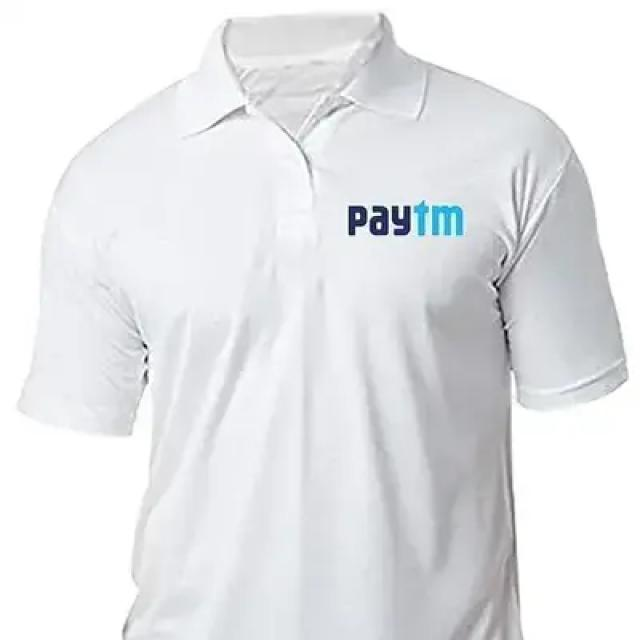fully_visible: (342, 190, 471, 248)
